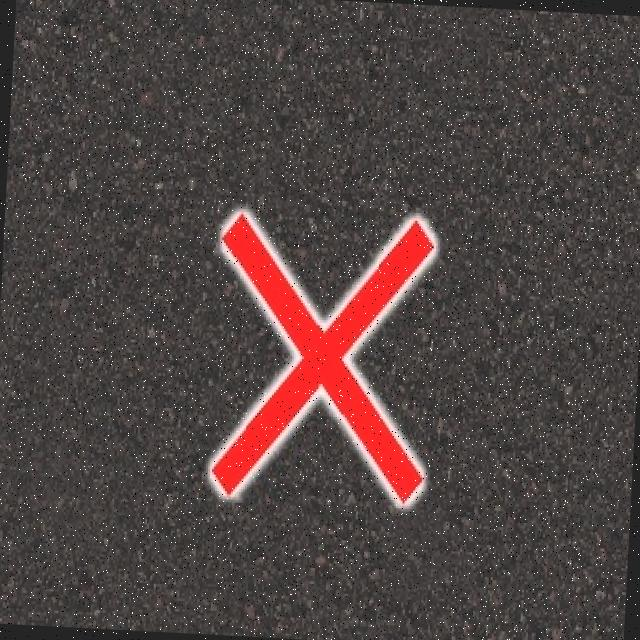x_marker: (210, 210, 434, 502)
